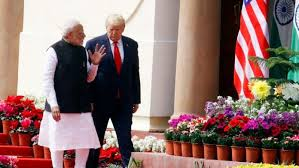Bad: (42, 14, 140, 167)
